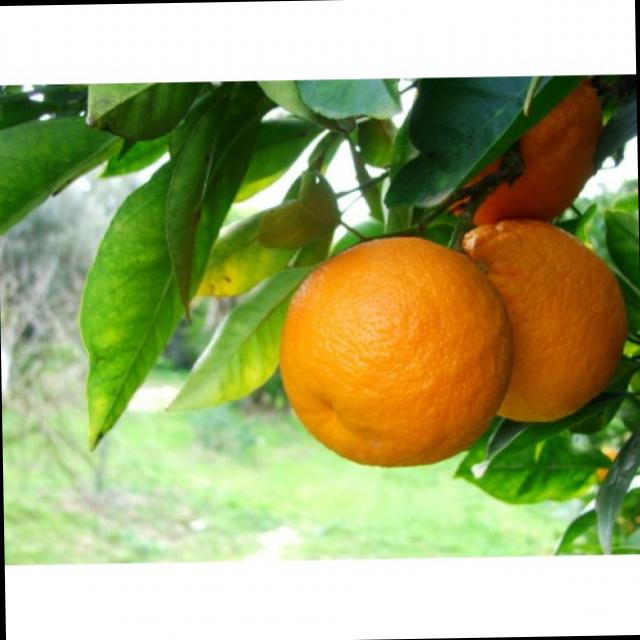orange: (272, 227, 521, 473), (417, 214, 626, 446)
